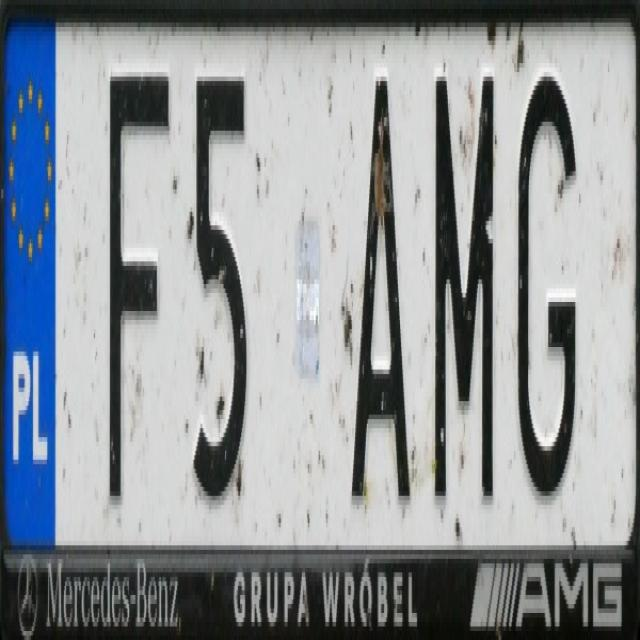pl_license_plate: (3, 18, 634, 545)
